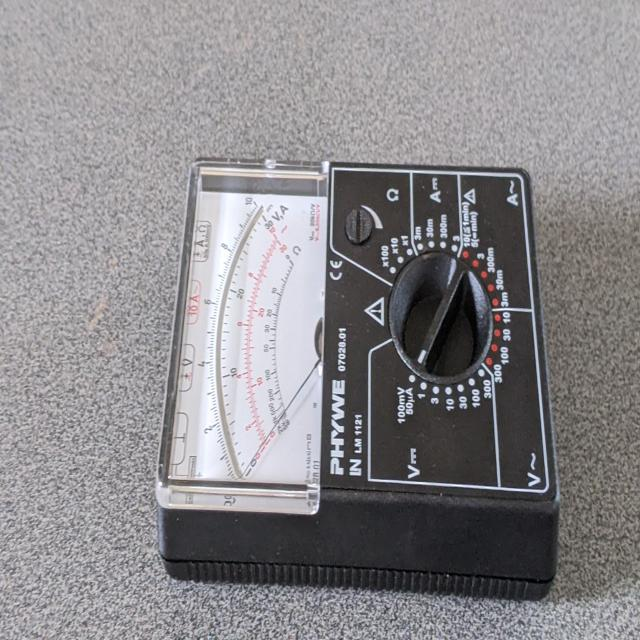Analog Multimeter: (145, 136, 568, 596)
